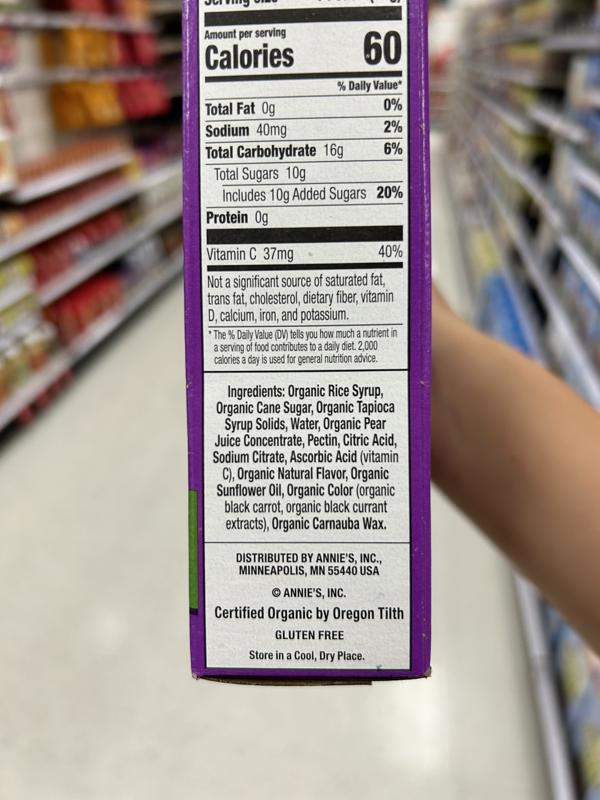ingredients: (210, 383, 399, 533)
